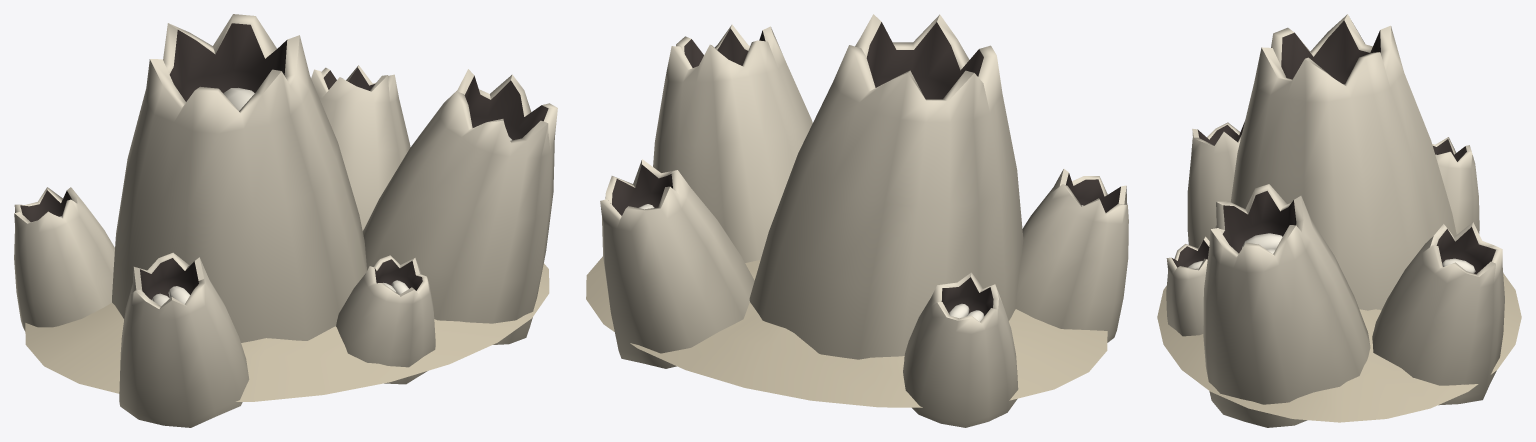
The model's file is tartar_barnacle.glb.
The picture shows the model from 3 angles, left to right: view 1: azimuth 30°, elevation 25°; view 2: azimuth 150°, elevation 25°; view 3: azimuth 270°, elevation 25°; orthographic projection. The views are drawn at different scales.
Parts seen in each view (by area): view 1: tartar_barnacle; view 2: tartar_barnacle; view 3: tartar_barnacle.
Part boxes in pixels (x1,y1,x2,y2): tartar_barnacle: [14, 14, 557, 427]; tartar_barnacle: [586, 14, 1128, 427]; tartar_barnacle: [1157, 14, 1521, 427].
Size of the model in its own units: 0.41 by 0.2524 by 0.3.
